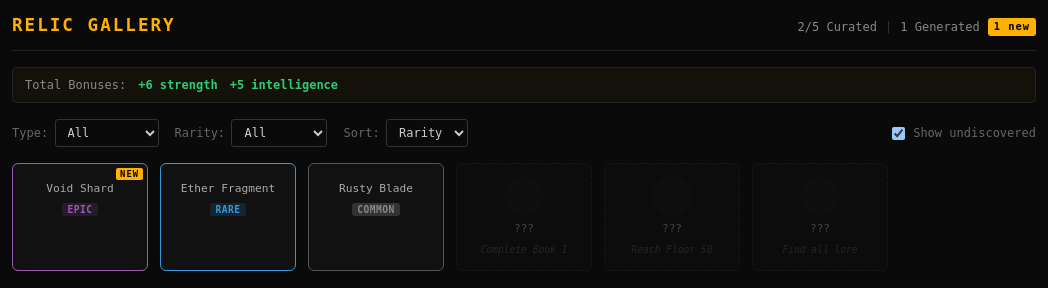
RelicGallery Component › filters by rarity
This screenshot has width=1048, height=288.
Expected: the text "Void Shard" is shown, [46,182,114,197]
Select "Epic" in the dropdown next to "Rarity:" at {"x": 280, "y": 133}, box [232,119,328,147]
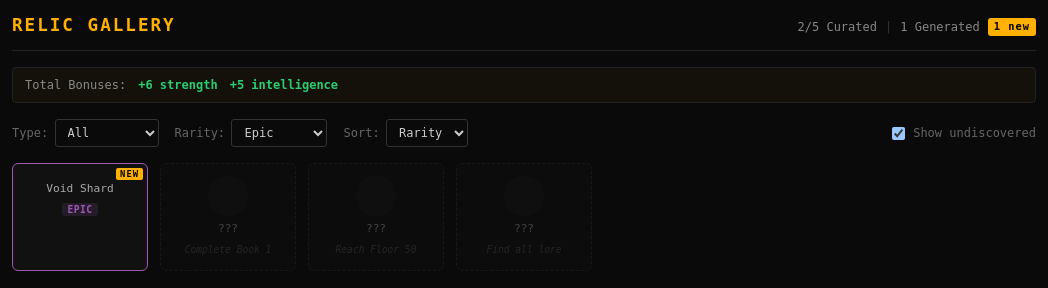
Expected: the text "Void Shard" is shown, [46,182,114,197]
Expected: the button "Rusty Blade" is gone
Expected: the button "Ether Fragment" is gone
